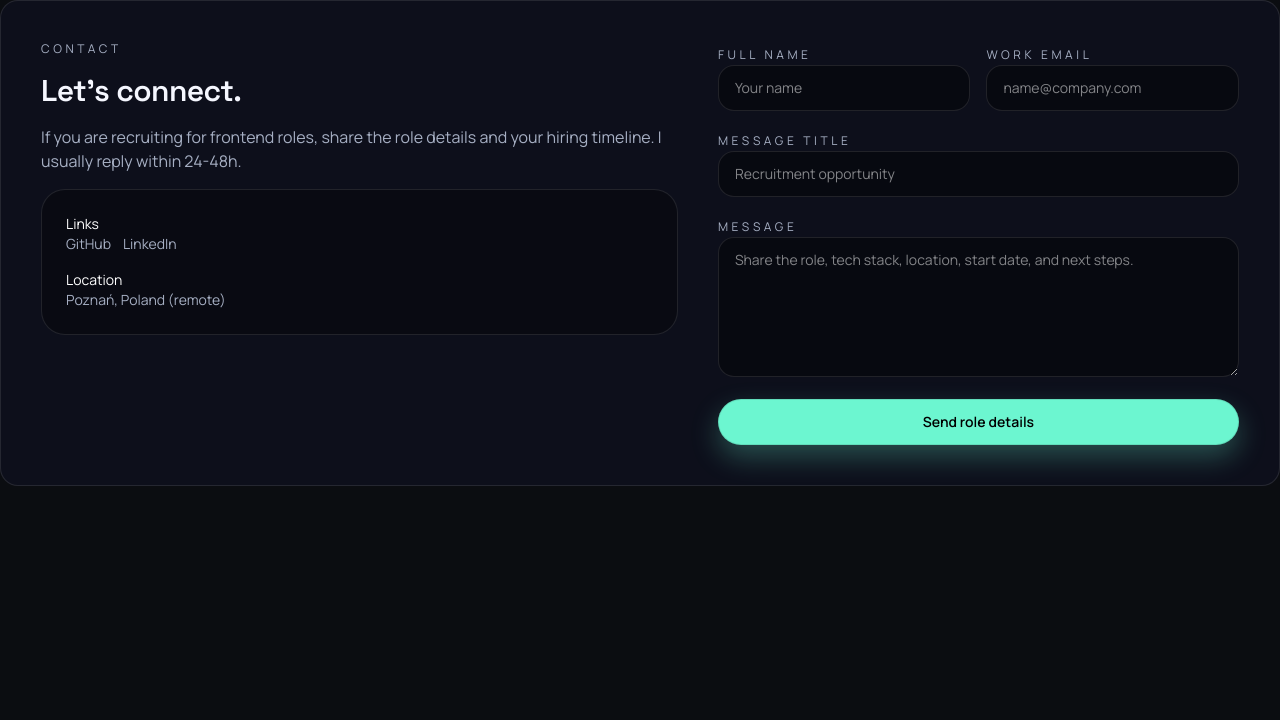
Test: Contact › form submission › shows success message after successful submission
Type "Jane Smith" into the field with placeholder "Your name" at (844, 88), box 718,65 -> 970,111
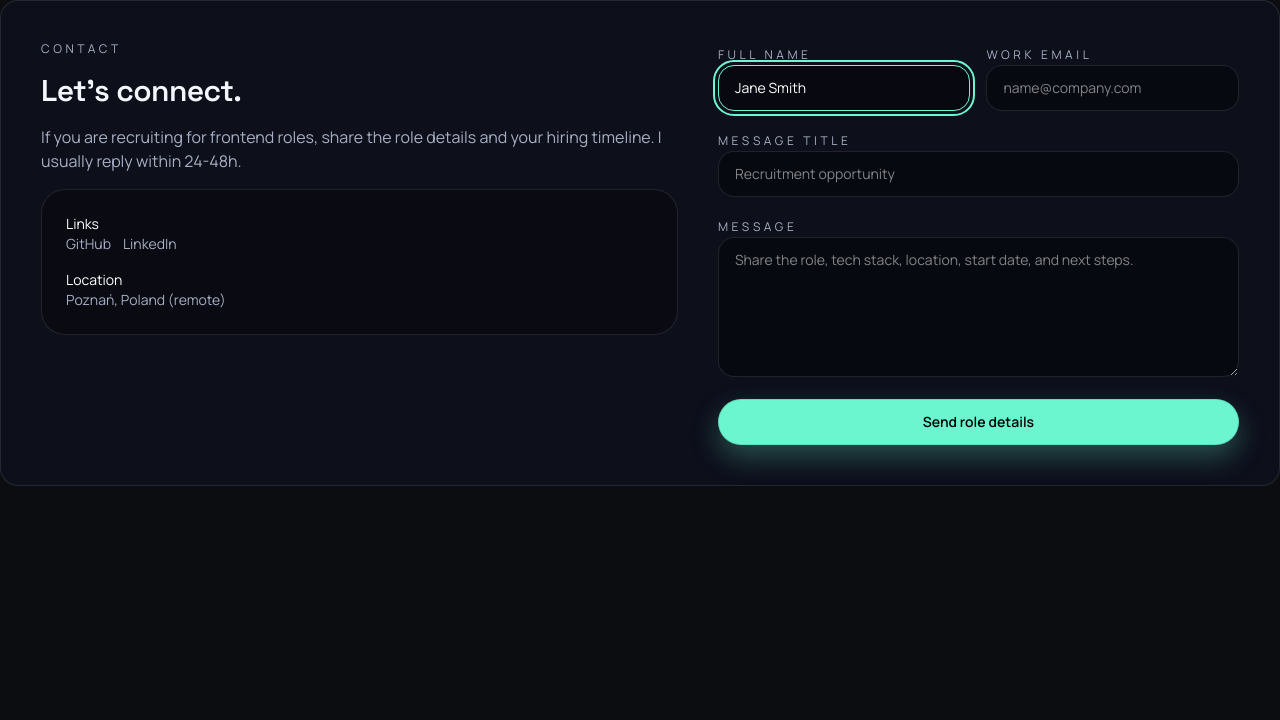
Type "jane@company.com" into the field with placeholder "name@company.com" at (1113, 88), box 986,65 -> 1239,111
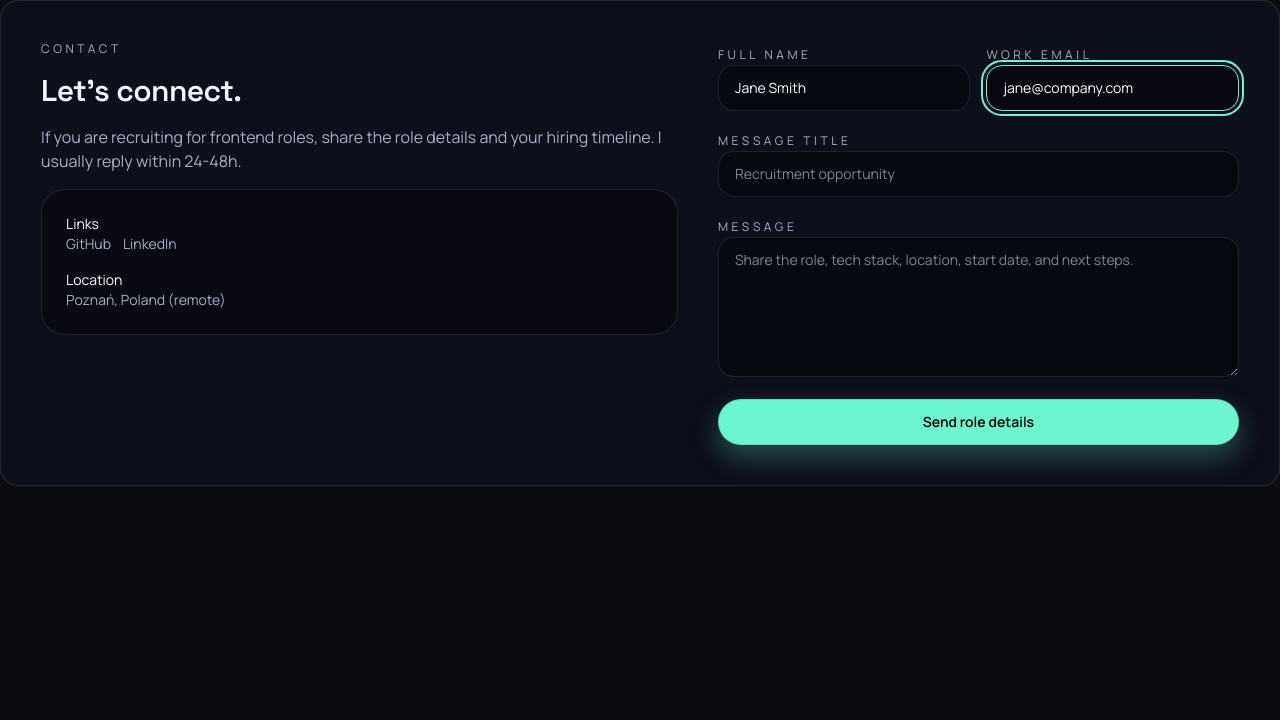
Type "Hello, I would like to discuss a frontend opportunity with you." into the text box with placeholder "Share the role" at (978, 307), box 718,237 -> 1239,377
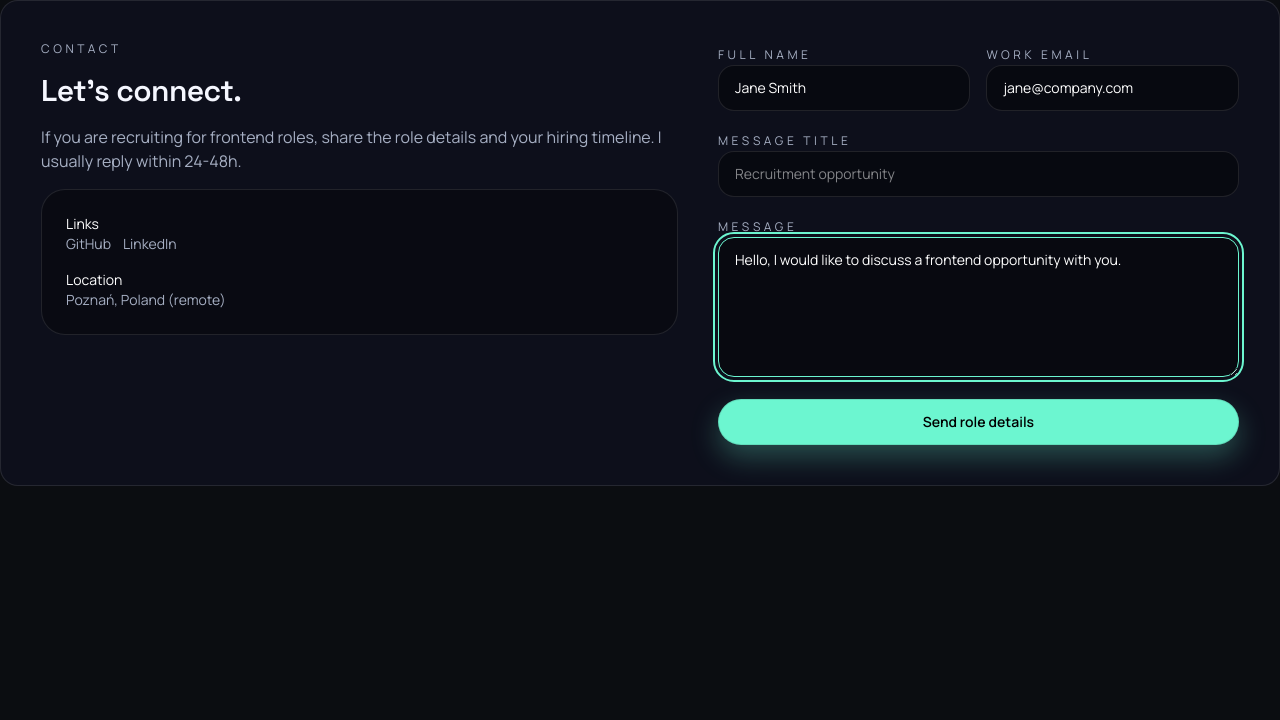
Click the button "Send role details" at (978, 422), box 718,399 -> 1239,445
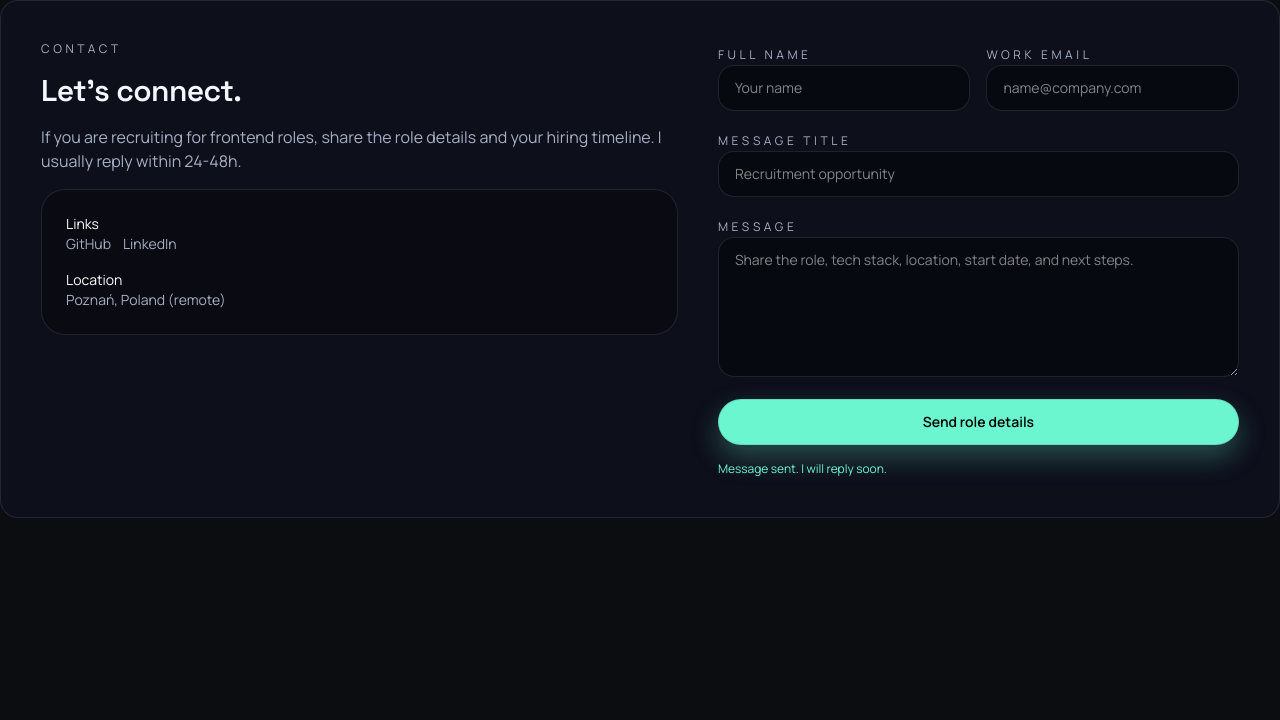
Result: the text "Message sent. I will reply soon." is shown at 718,460 -> 887,477
